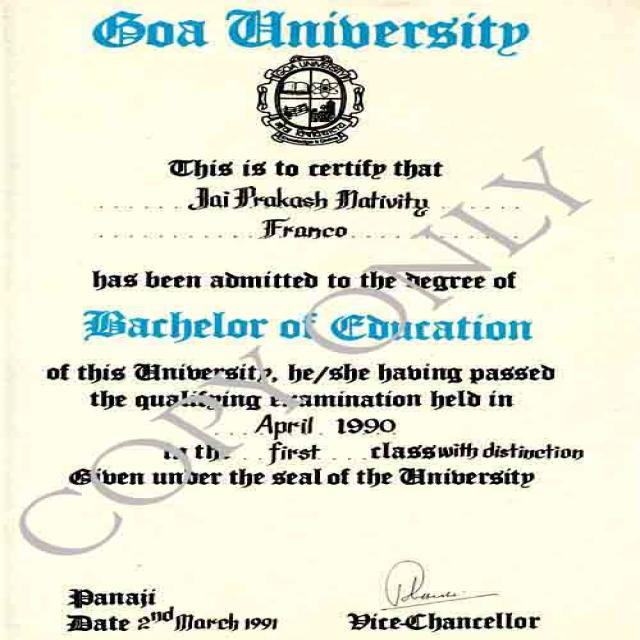degree: (76, 304, 538, 348)
signature: (360, 556, 538, 634)
stamp: (239, 51, 375, 148)
